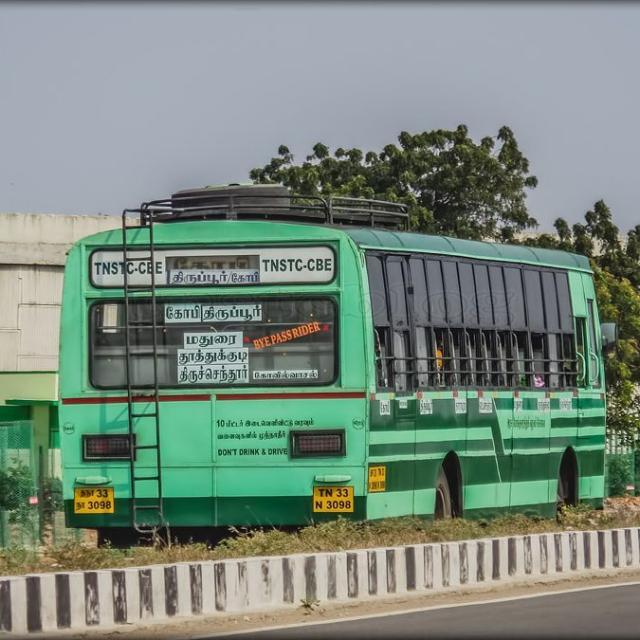Bus: (55, 184, 619, 529)
